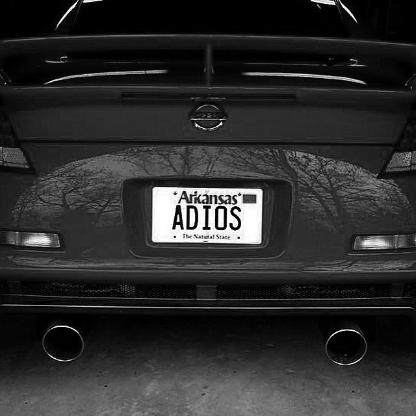license plate: (146, 182, 272, 254)
